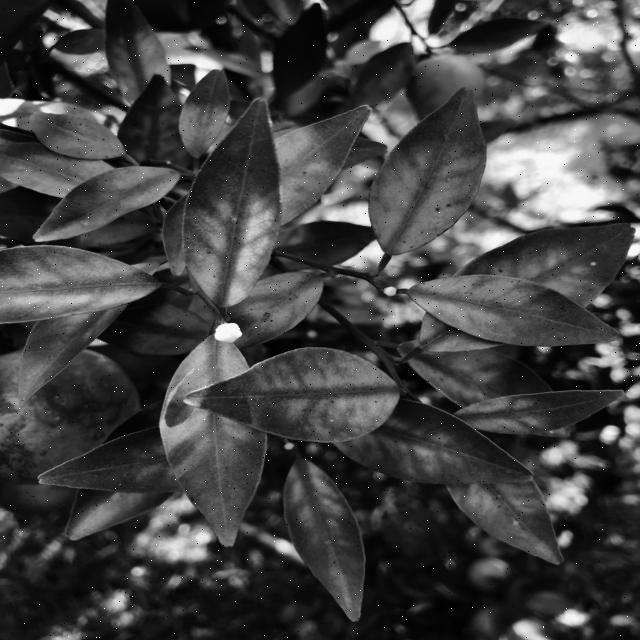blackspot: (412, 222, 634, 354), (361, 110, 476, 253), (217, 360, 400, 436), (252, 101, 361, 222), (44, 166, 176, 234), (174, 429, 250, 514), (169, 71, 231, 153), (37, 111, 123, 162)
